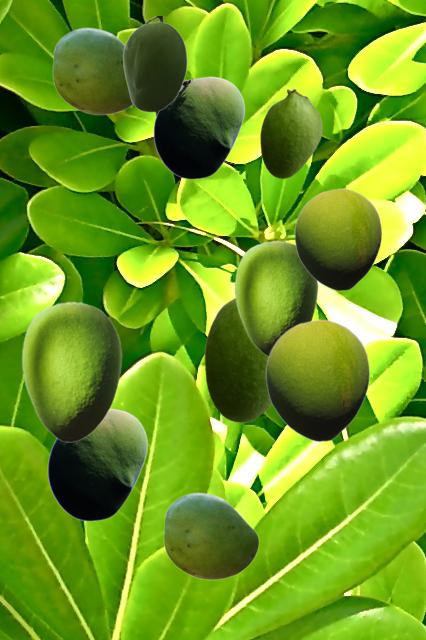green_mango: (21, 301, 121, 441), (265, 319, 369, 441), (47, 408, 147, 520), (234, 240, 317, 356), (153, 76, 244, 178), (294, 188, 381, 290), (204, 297, 271, 421), (163, 492, 258, 579), (52, 27, 132, 114), (122, 16, 186, 116), (260, 88, 321, 177)
